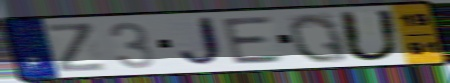3: (108, 20, 156, 70)
E: (219, 14, 288, 67)
J: (175, 14, 228, 70)
Q: (286, 11, 352, 64)
U: (336, 8, 404, 64)
Z: (43, 21, 111, 74)
